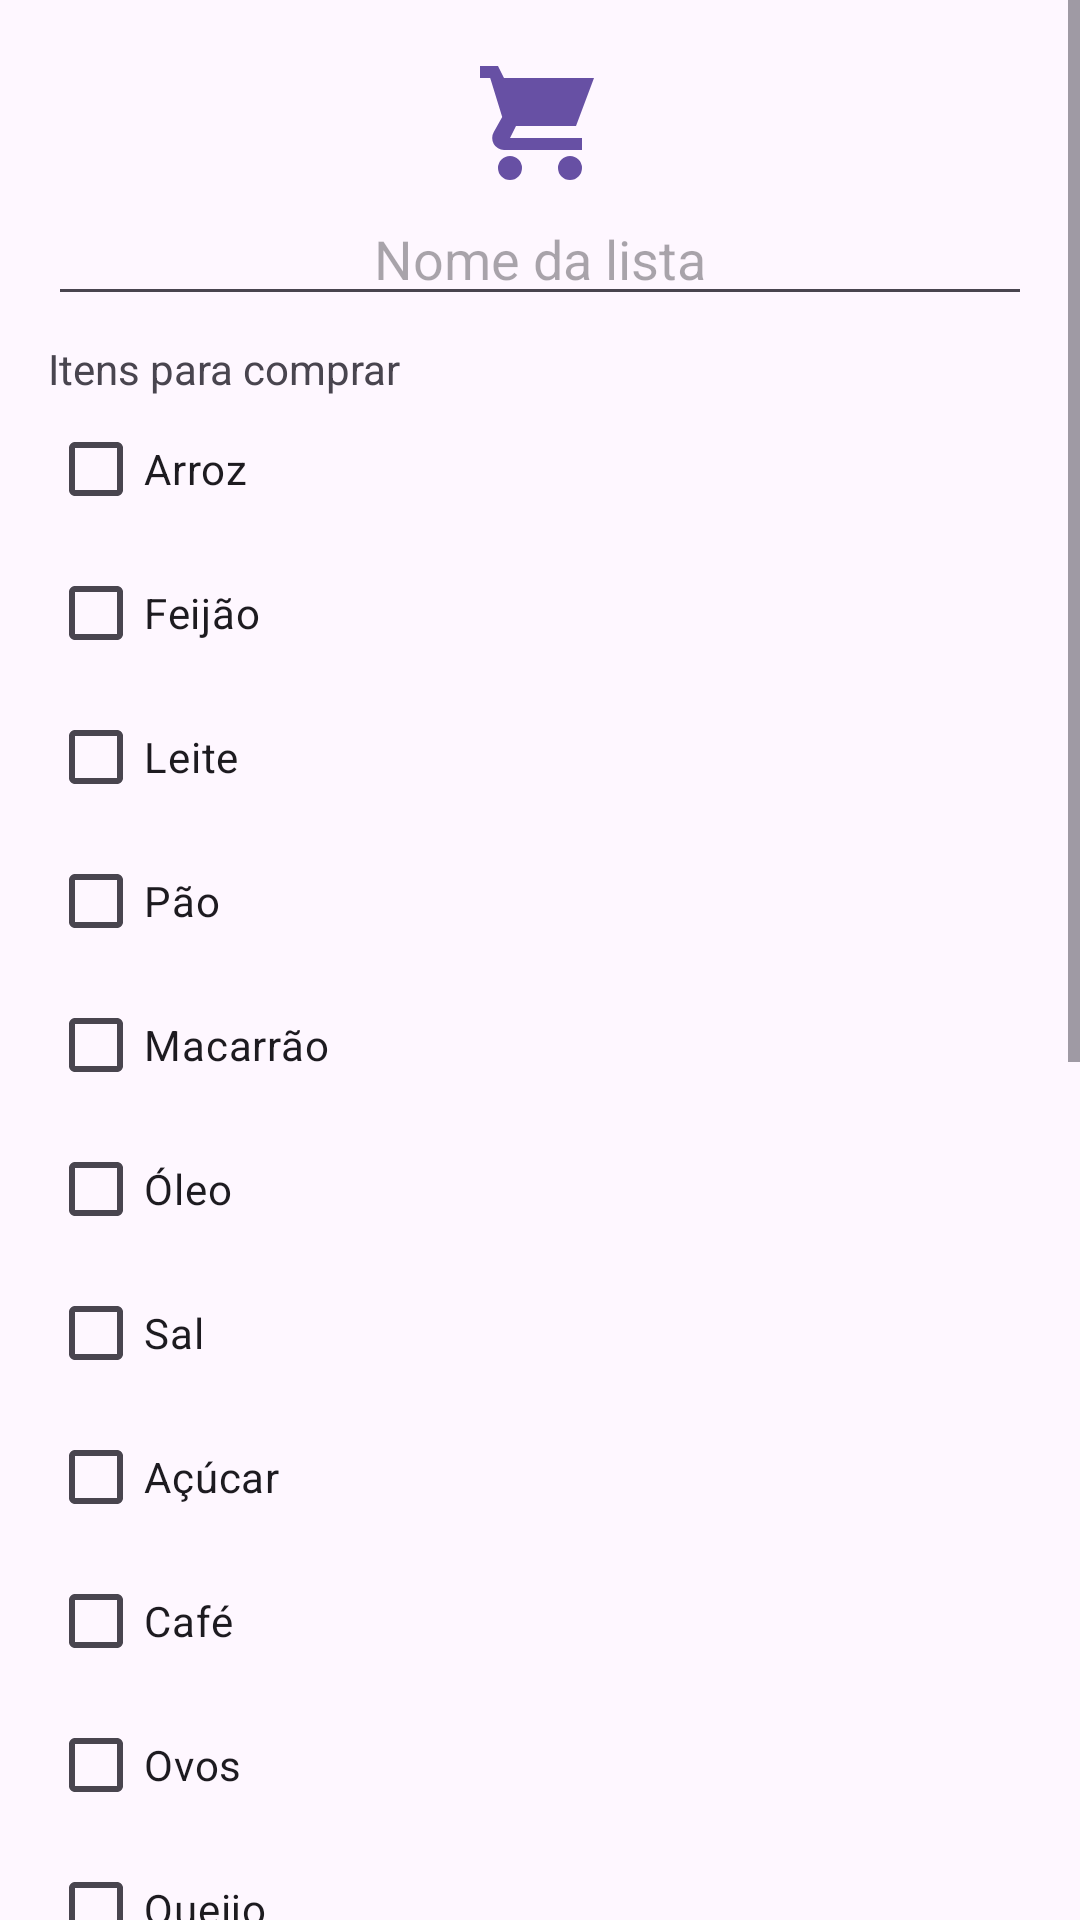

Icon bounding boxes for this 1080w x 1920h phone screenshot, format (x1, y1, x2, y2):
carrinho: (480, 66, 594, 180)
